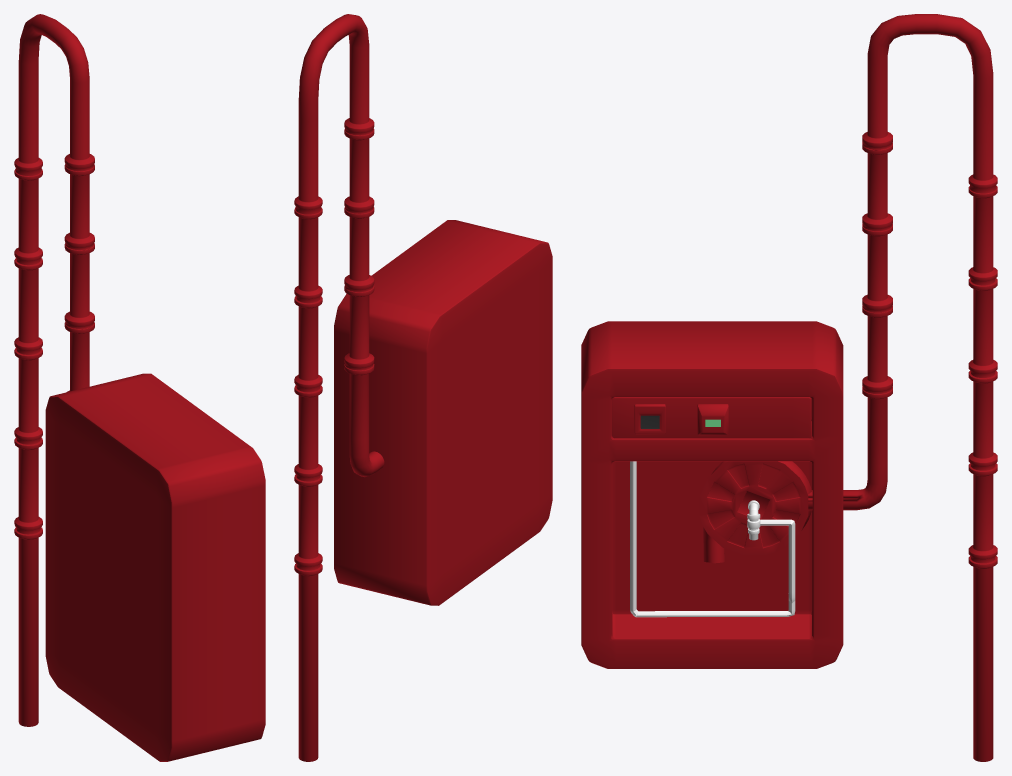
File: Prop_HydrantBox.fbx
3 renders of one model, left to right at view 1: azimuth 30°, elevation 25°; view 2: azimuth 150°, elevation 25°; view 3: azimuth 270°, elevation 25°, orthographic. The views are drawn at different scales.
Parts seen in each view (by area): view 1: Prop_HydrantBox; view 2: Prop_HydrantBox; view 3: Prop_HydrantBox.
Boxes of the visible parts, x1,y1,x2,y2 form: Prop_HydrantBox: (14, 14, 265, 761); Prop_HydrantBox: (294, 14, 552, 761); Prop_HydrantBox: (581, 14, 997, 761).
Bounding box in the file's own units: 43.18 × 293 × 149.
